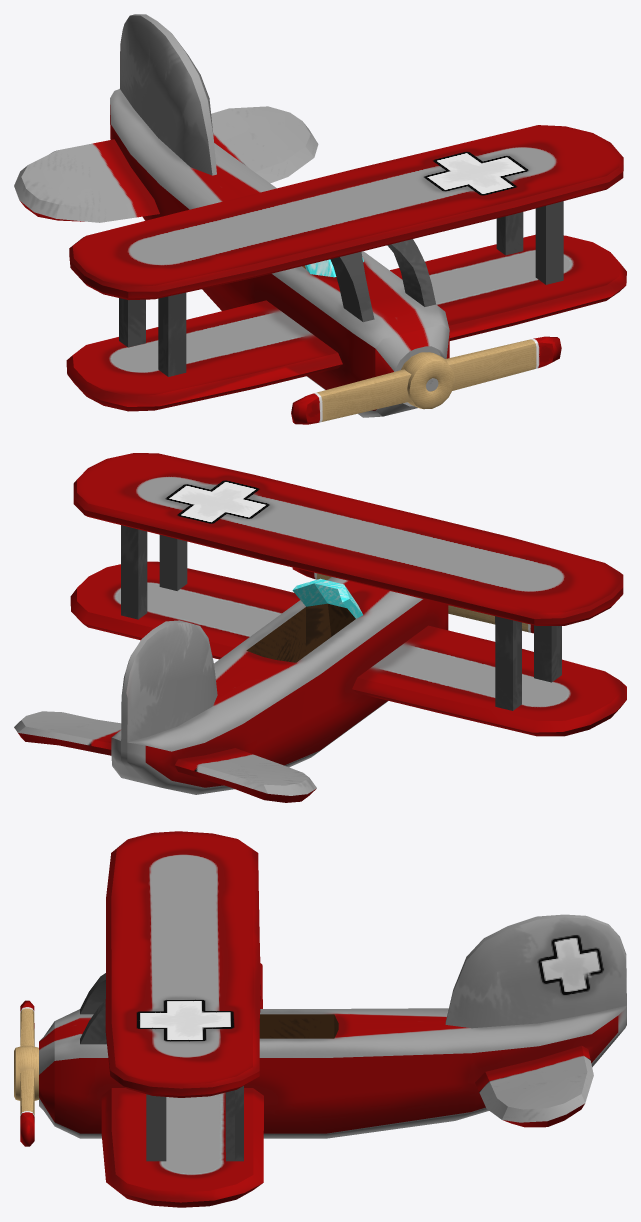
Rendered from PlaneUpdated2.FBX.
3 views of the same model, one above another, from view 1: azimuth 30°, elevation 25°; view 2: azimuth 150°, elevation 25°; view 3: azimuth 270°, elevation 25° (orthographic).
Visible parts, largest first — view 1: Body, Prop; view 2: Body, Prop; view 3: Body, Prop.
Boxes of the visible parts, box(x1,y1,x2,y2) form: Body: box(14, 14, 626, 417); Prop: box(291, 336, 561, 424); Body: box(14, 453, 626, 802); Prop: box(292, 567, 533, 633); Body: box(39, 831, 626, 1207); Prop: box(14, 1000, 38, 1146).
Bounding box in the file's own units: 58.66 × 21.72 × 58.83.
2 materials, 2 textured.
